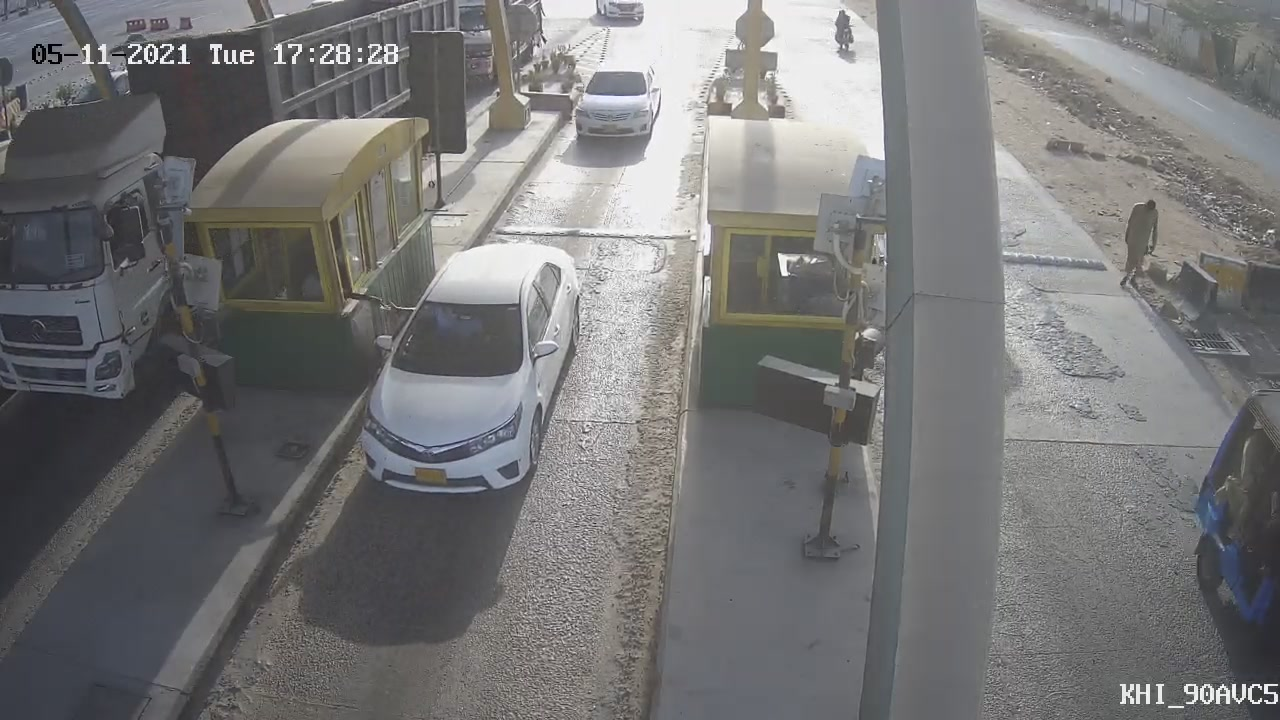F1: (335, 216, 598, 518), (559, 46, 673, 161)
